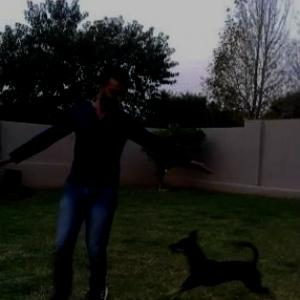land: (7, 70, 207, 291)
